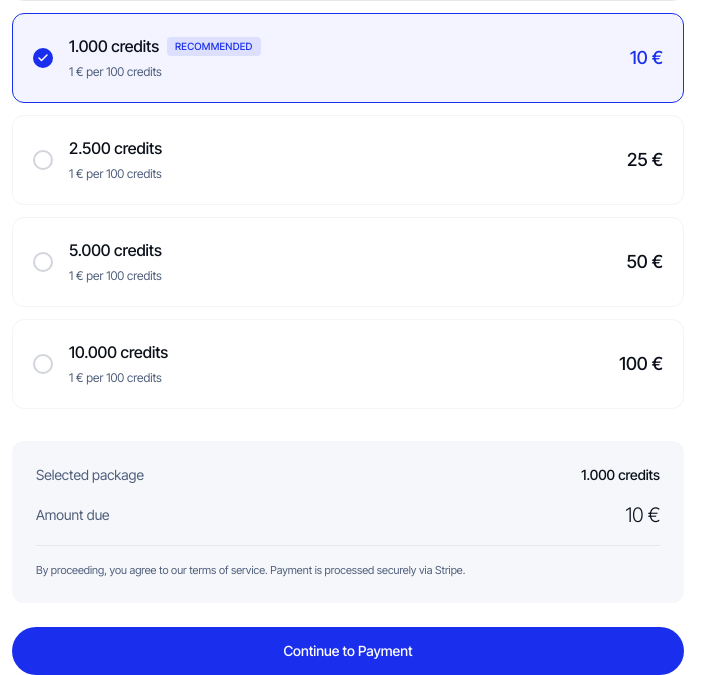
Test: TopUpPage › Checkout flow - Loading state › should show loading state during checkout
(page scrolled)
Click the button "Continue to Payment" at (348, 650), box [12,626,684,674]
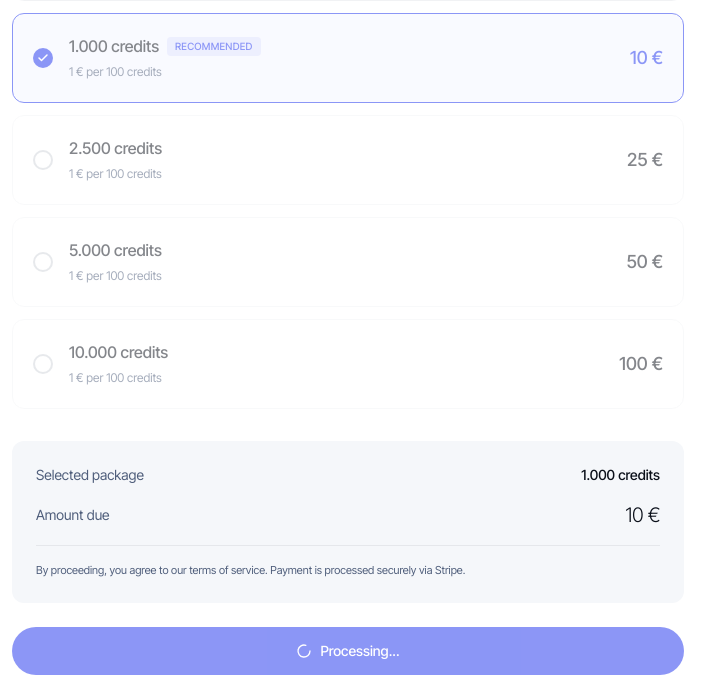
Now the text "Processing..." is shown, box [320,640,400,660]
